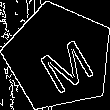M_NW: (26, 24, 92, 90)
